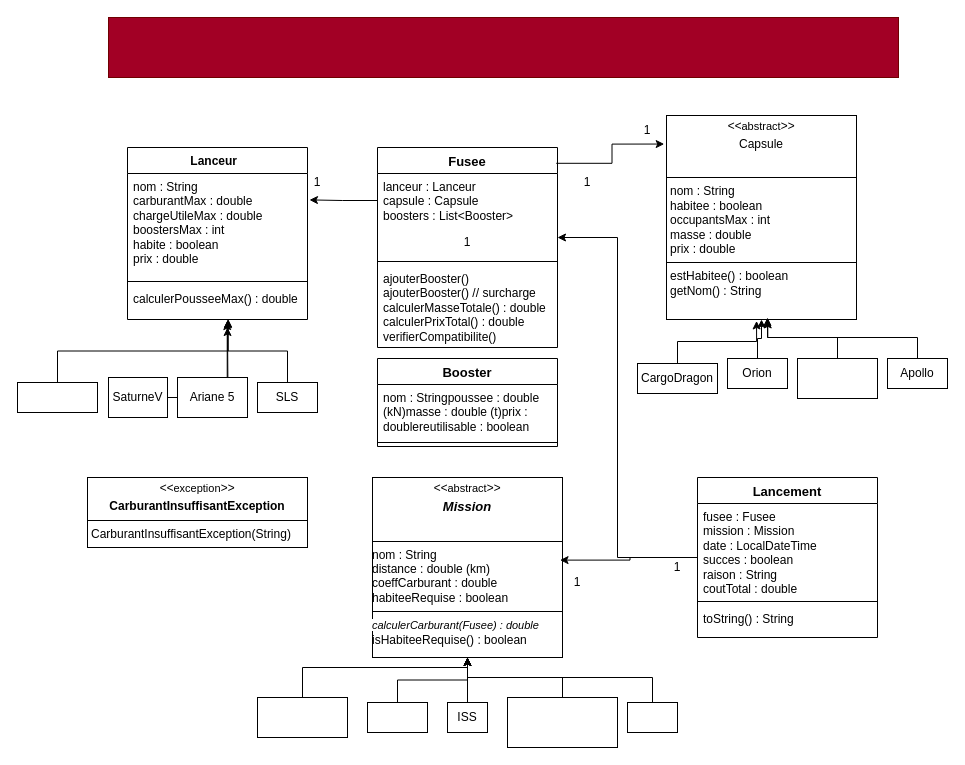
Some shapes in this 965 by 765 pixel diagram are drawn without their labels. Each missing label, with the centre of its shape:
CrewDragon: [837,378]
Diagram UML - Simulation Spacial: [503,47]
Falcon 9: [57,397]
Lune: [652,717]
Mars: [397,717]
MissionPersonnelle: [562,722]
OrbitTerrestre: [302,717]
